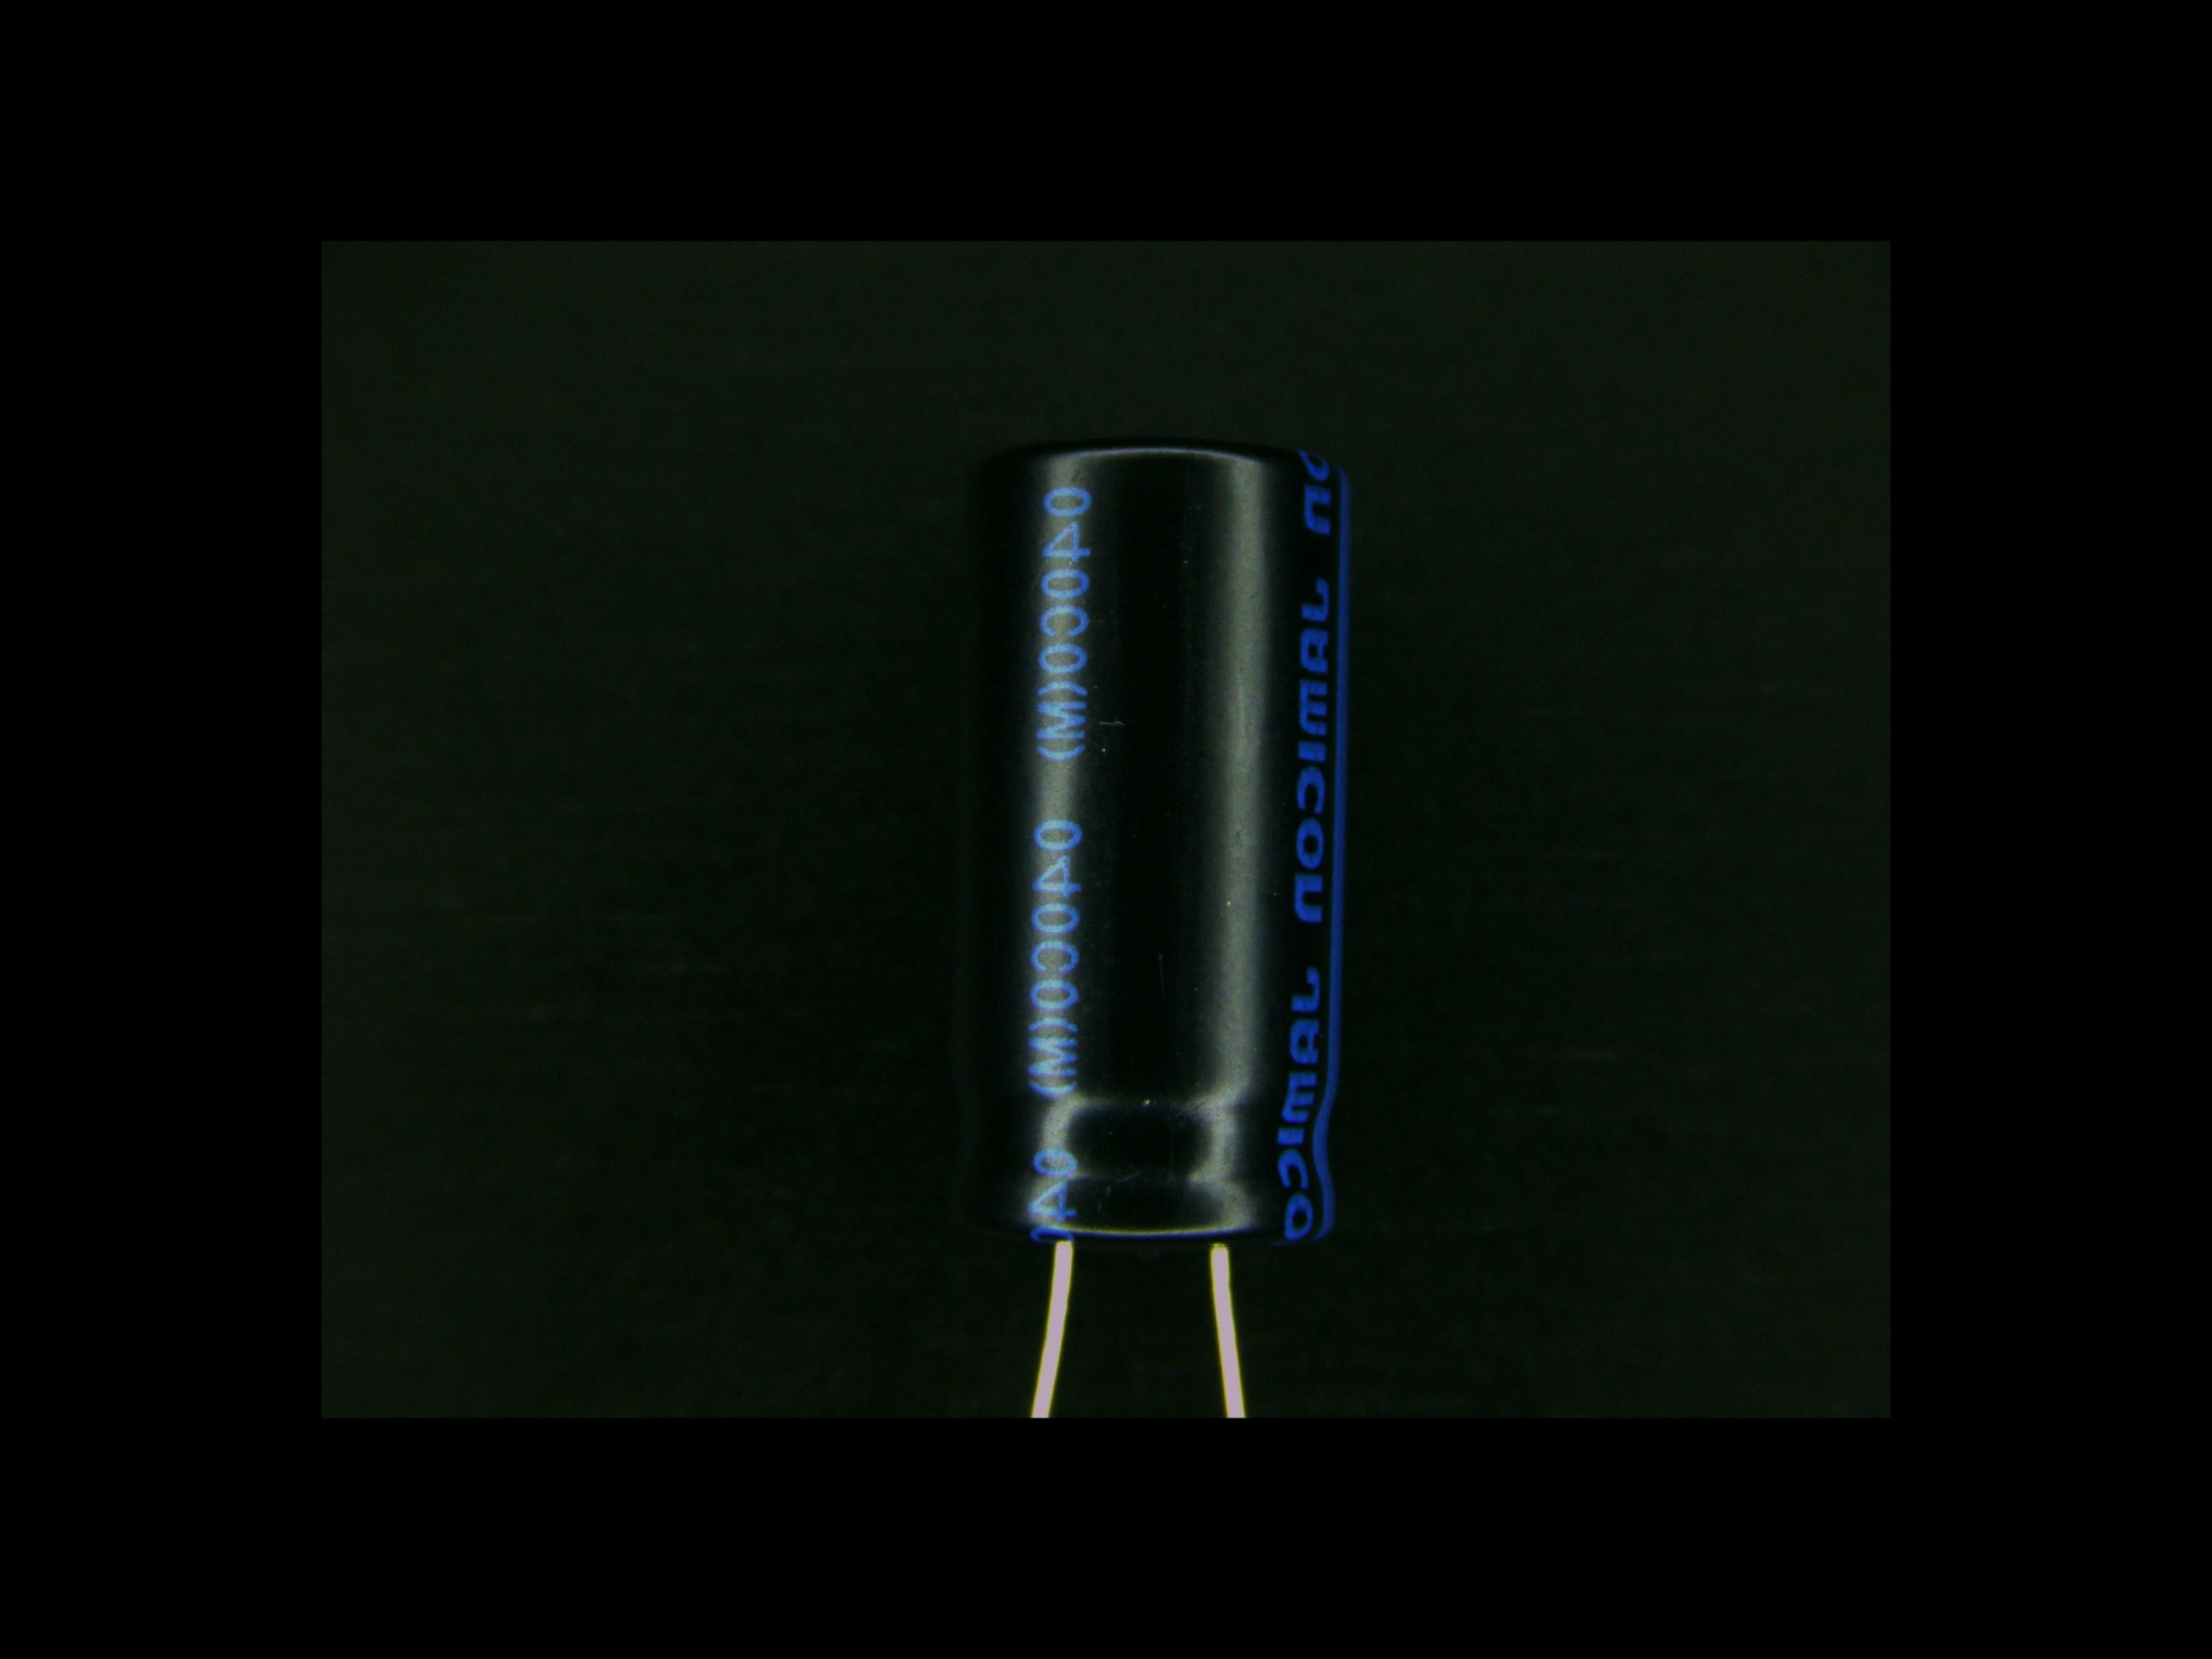c2: (948, 434, 1355, 1297)
